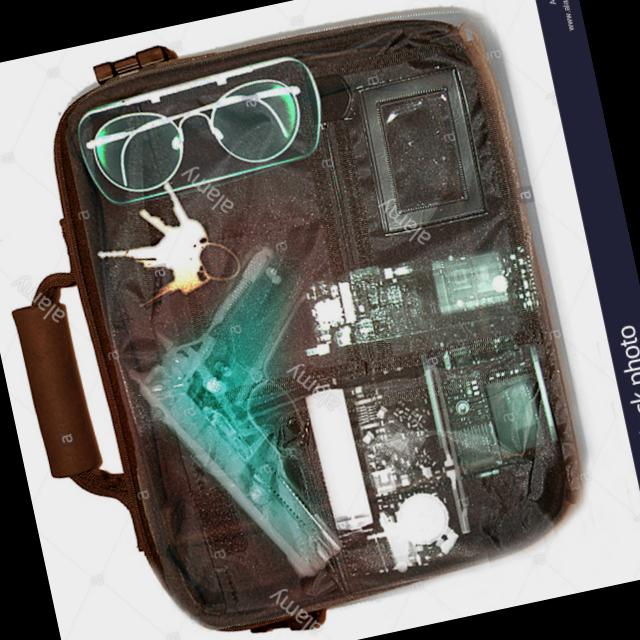handgun: (106, 230, 364, 604)
